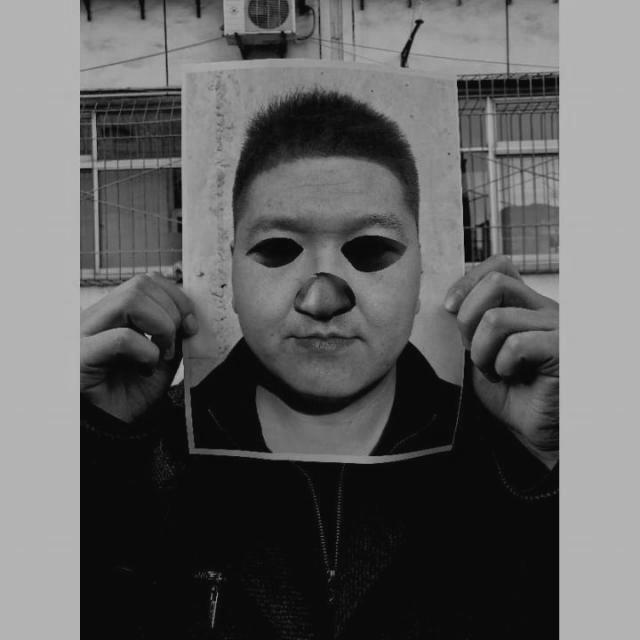fake: (167, 56, 469, 464)
